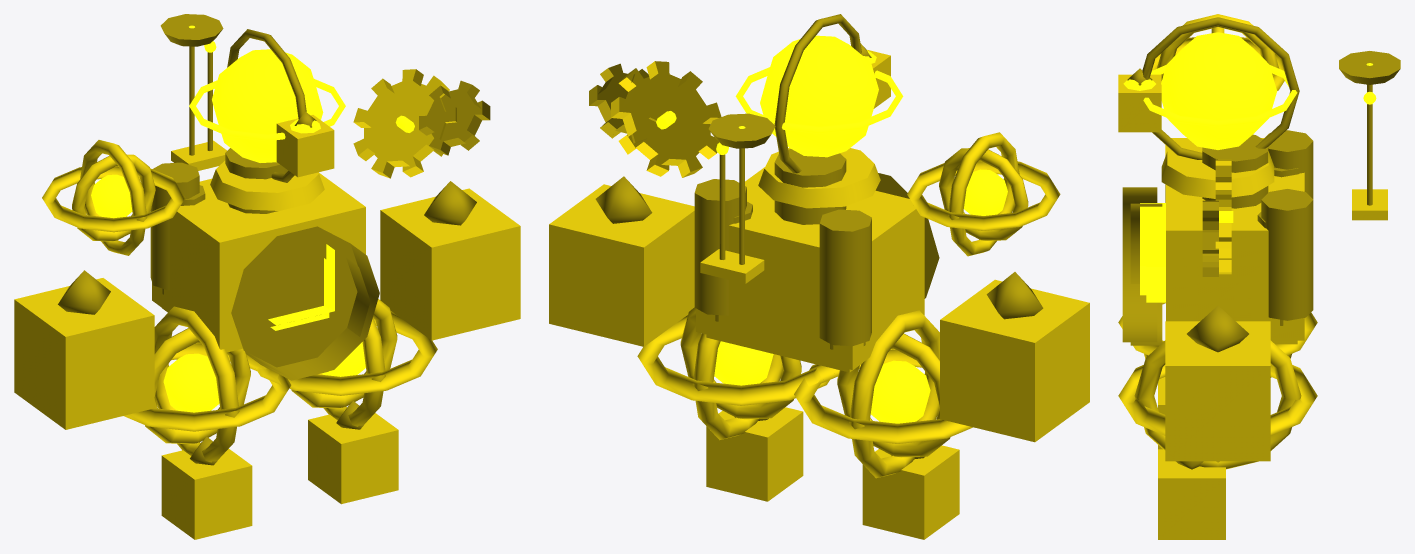
Rendered from golem_110.glb.
3 views of the same model, side by side, from view 1: azimuth 30°, elevation 25°; view 2: azimuth 150°, elevation 25°; view 3: azimuth 270°, elevation 25° (orthographic). The views are drawn at different scales.
Parts seen in each view (by area): view 1: Body, Detail, Glow; view 2: Body, Detail, Glow; view 3: Body, Detail, Glow.
Boxes of the visible parts, x1=… form: Body: x1=14, y1=69, x2=520, y2=539; Detail: x1=58, y1=14, x2=490, y2=465; Glow: x1=91, y1=25, x2=414, y2=412; Body: x1=549, y1=50, x2=1089, y2=539; Detail: x1=589, y1=14, x2=1043, y2=458; Glow: x1=656, y1=35, x2=1007, y2=423; Body: x1=1118, y1=14, x2=1387, y2=539; Detail: x1=1122, y1=17, x2=1400, y2=469; Glow: x1=1123, y1=32, x2=1376, y2=302.
Bounding box in the file's own units: 1.55 × 1.5 × 0.814.
